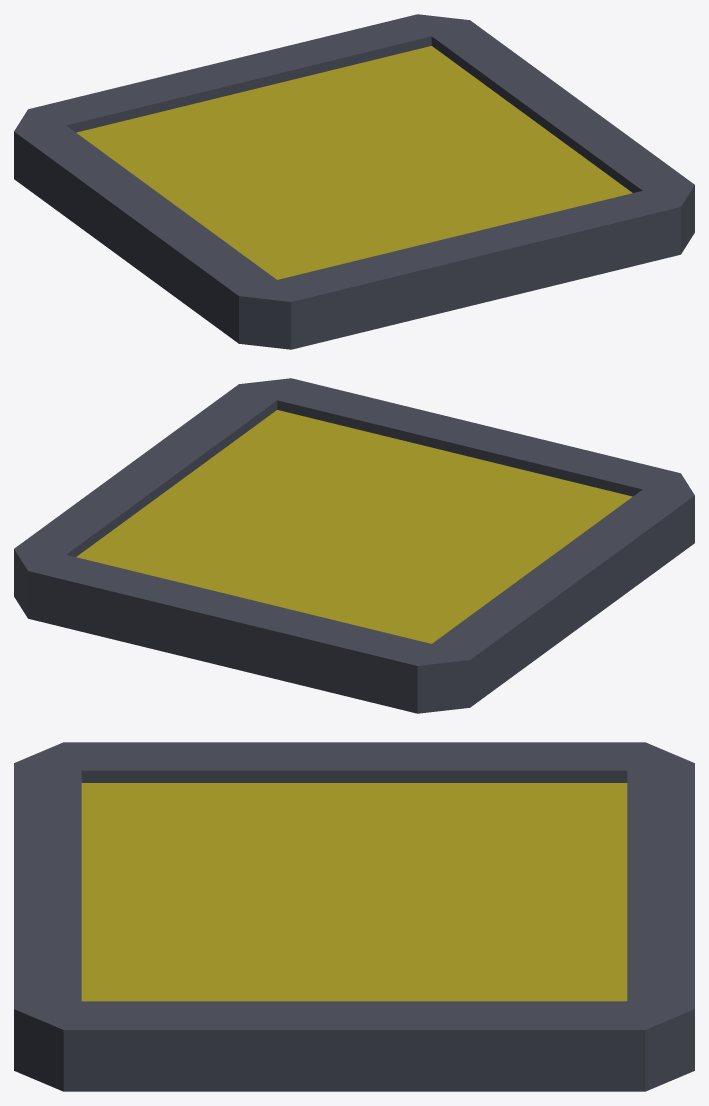
Rendered from yellow_base.obj.
The picture shows the model from 3 angles, top to bottom: view 1: azimuth 30°, elevation 25°; view 2: azimuth 150°, elevation 25°; view 3: azimuth 270°, elevation 25°; orthographic projection. The views are drawn at different scales.
Visible parts, largest first — view 1: solar_square%_8; view 2: solar_square%_8; view 3: solar_square%_8.
Boxes of the visible parts, left/top/right/bottom form: solar_square%_8: left=14, top=14, right=694, bottom=349; solar_square%_8: left=14, top=378, right=694, bottom=713; solar_square%_8: left=14, top=742, right=694, bottom=1091.
Bounding box in the file's own units: 1 × 0.1 × 1.
